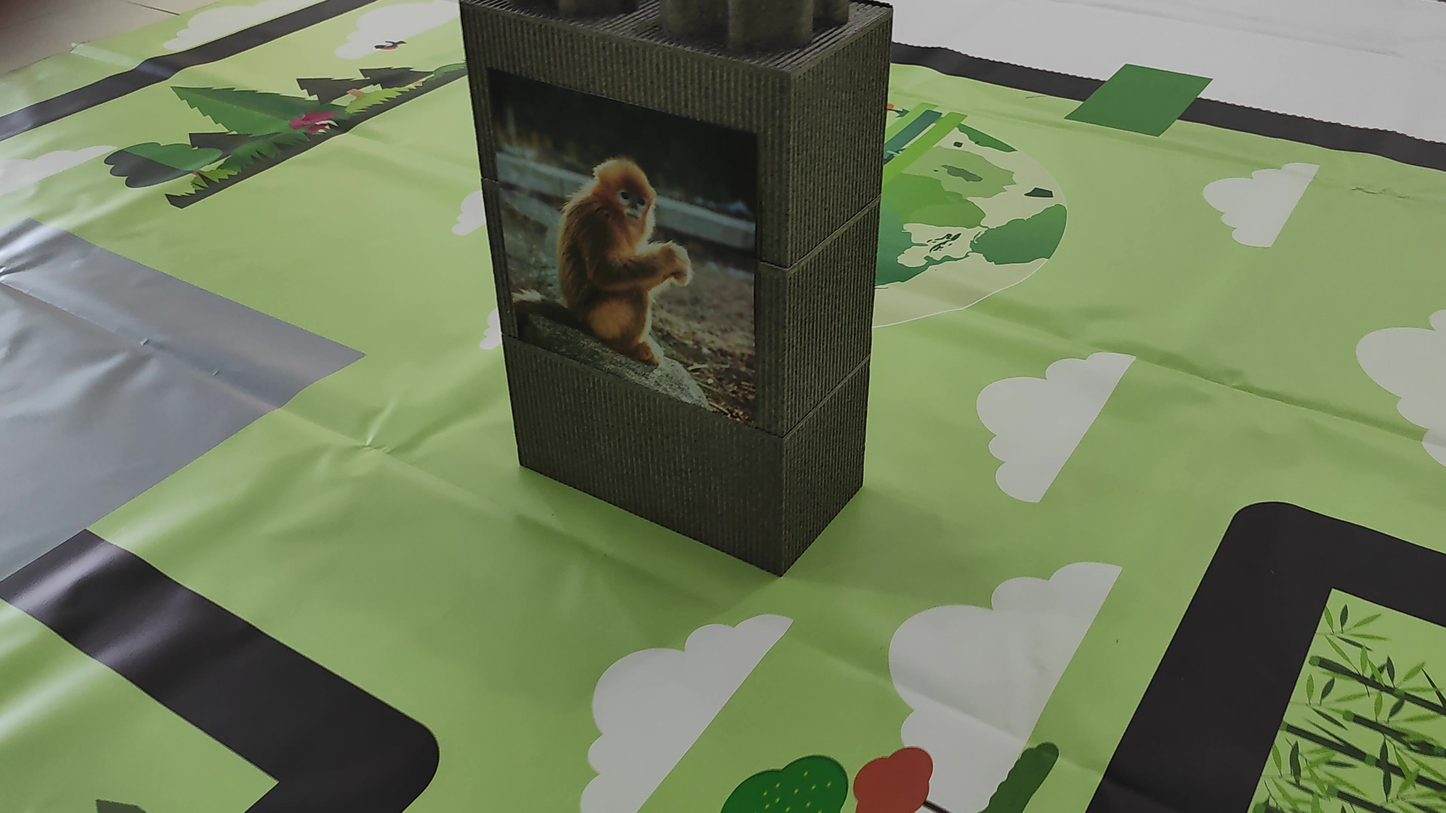monkey: (531, 139, 726, 380)
